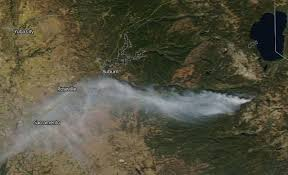smoke: (144, 92, 255, 122)
